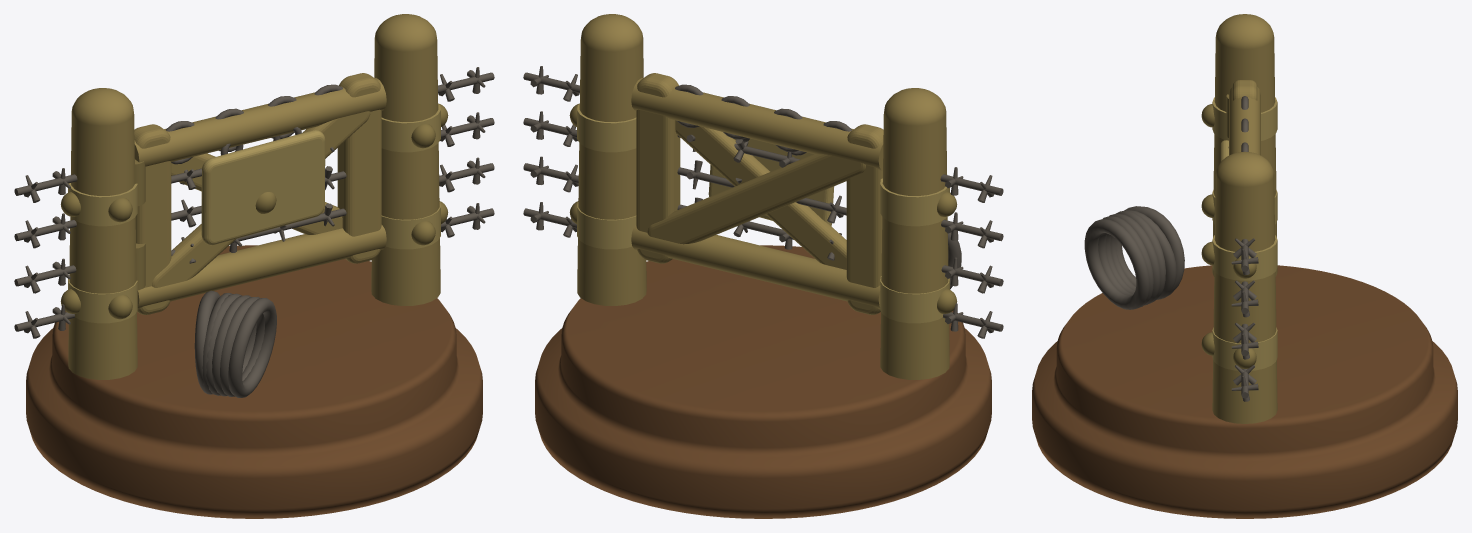
Rendered from ch5-piece-sealed-camp-gate.glb.
3 renders of one model, left to right at view 1: azimuth 30°, elevation 25°; view 2: azimuth 150°, elevation 25°; view 3: azimuth 270°, elevation 25°, orthographic. The views are drawn at different scales.
Visible parts, largest first — view 1: base, post (×2), sign_blank, stile (×2), coil_loop (×6), rail_top, rail_bottom, post_band (×4), brace (×2), post_top (×2), gate_wire_strand; view 2: base, post (×2), brace (×2), stile (×2), post_band (×4), rail_top, rail_bottom, post_top (×2), sign_blank, gate_wire_strand; view 3: base, post (×2), coil_loop (×6), post_band (×3), post_top (×2), rail_top.
Boxes of the visible parts, x1,y1,x2,y2 form: base: (26,245,482,518); post (×2): (68,38,440,379); sign_blank: (201,130,325,245); stile (×2): (134,73,381,314); coil_loop (×6): (194,290,276,397); rail_top: (134,78,386,166); rail_bottom: (137,225,386,309); post_band (×4): (68,104,440,323); brace (×2): (152,111,370,287); post_top (×2): (71,14,437,126); gate_wire_strand: (171,208,346,255); base: (535,245,991,518); post (×2): (577,38,949,379); brace (×2): (647,120,865,269); stile (×2): (636,73,883,314); post_band (×4): (577,104,949,323); rail_top: (631,78,883,170); rail_bottom: (631,225,880,309); post_top (×2): (580,14,946,126); sign_blank: (708,138,834,226); gate_wire_strand: (677,167,846,215); base: (1032,265,1457,518); post (×2): (1212,38,1277,423); coil_loop (×6): (1084,206,1184,309); post_band (×3): (1212,97,1277,370); post_top (×2): (1215,14,1274,187); rail_top: (1229,87,1260,155).
Bounding box in the file's own units: 0.154 × 0.1141 × 0.128.
